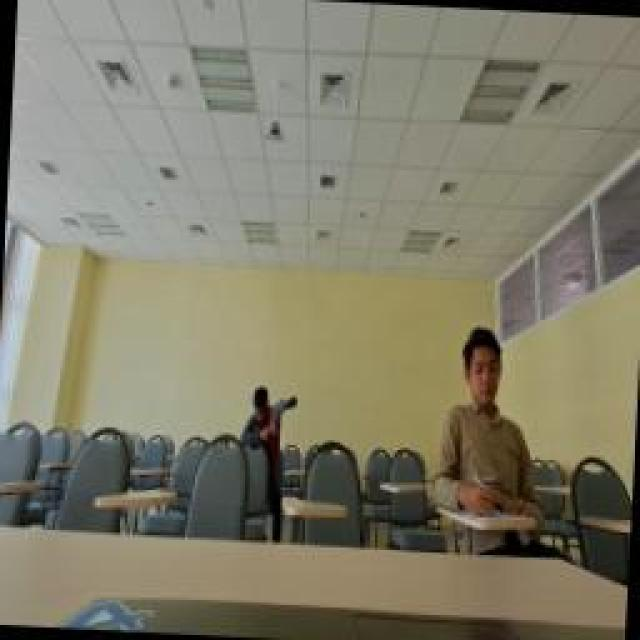study: (430, 325, 548, 517)
